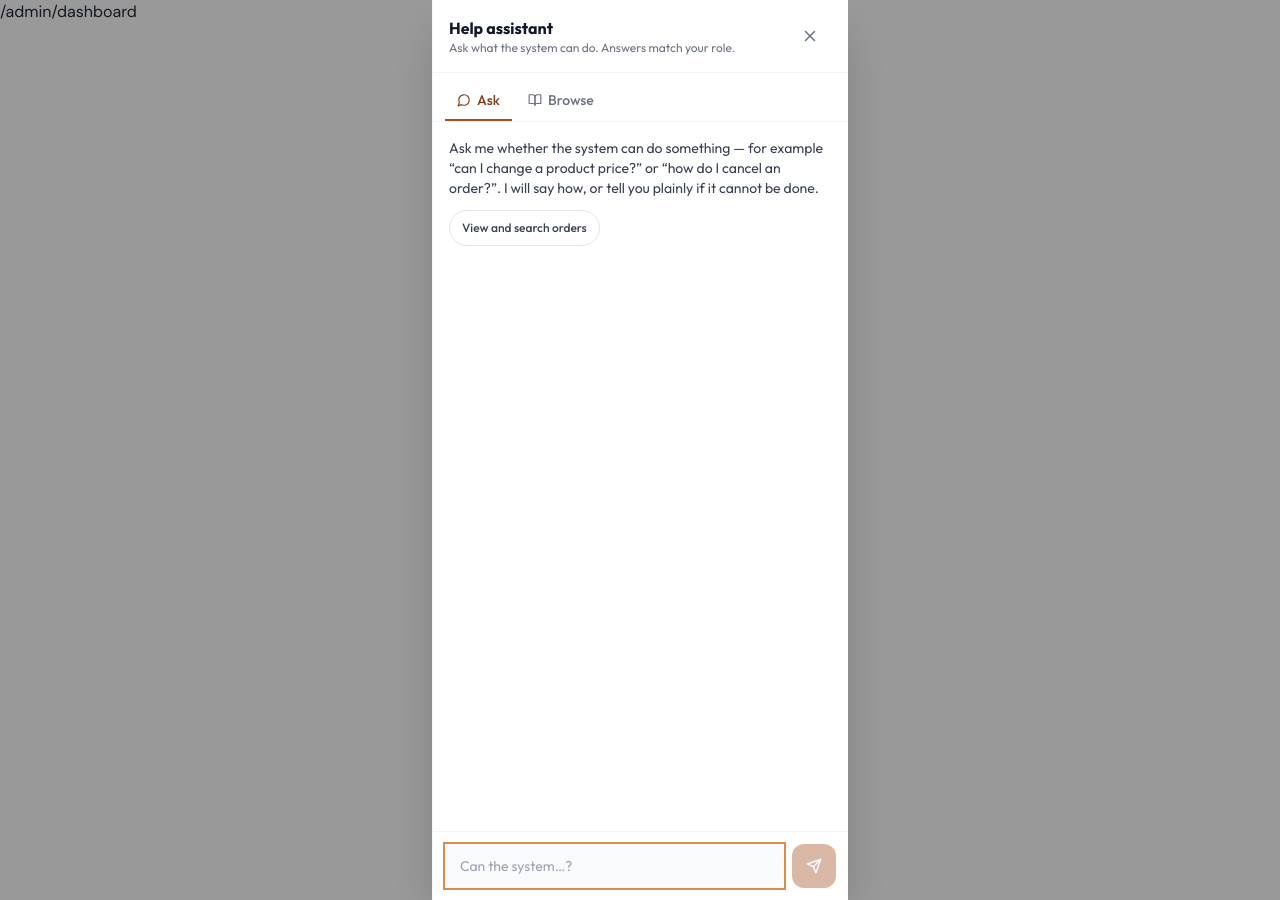
Test case: AssistantPanel › shows why a role cannot do something, without steps or a link
Type "approve an order" into the field named "Your question". click: [614, 866]
box: [445,844,784,888]
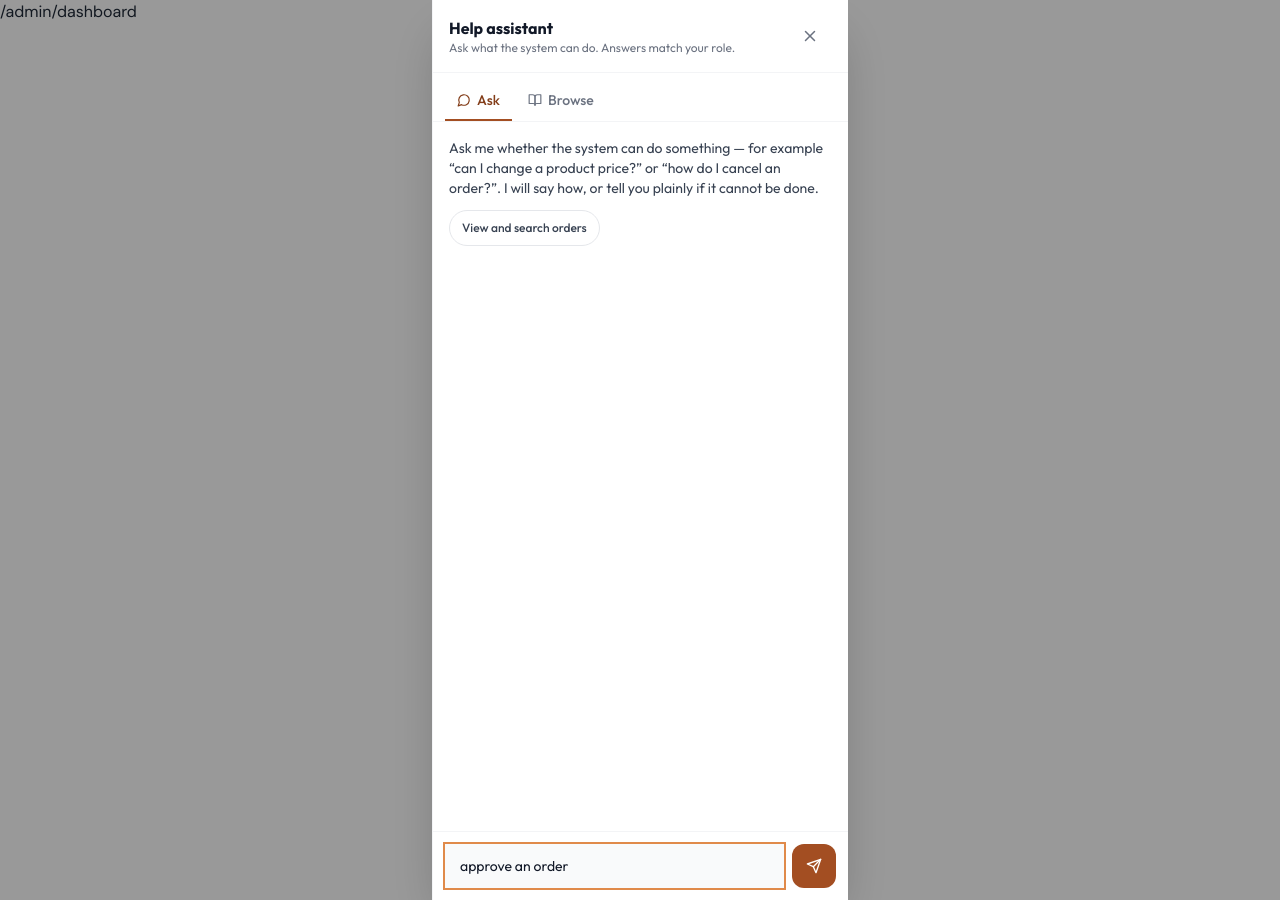
Click the button named "Send question". click: [814, 866]
box: [792,844,836,888]
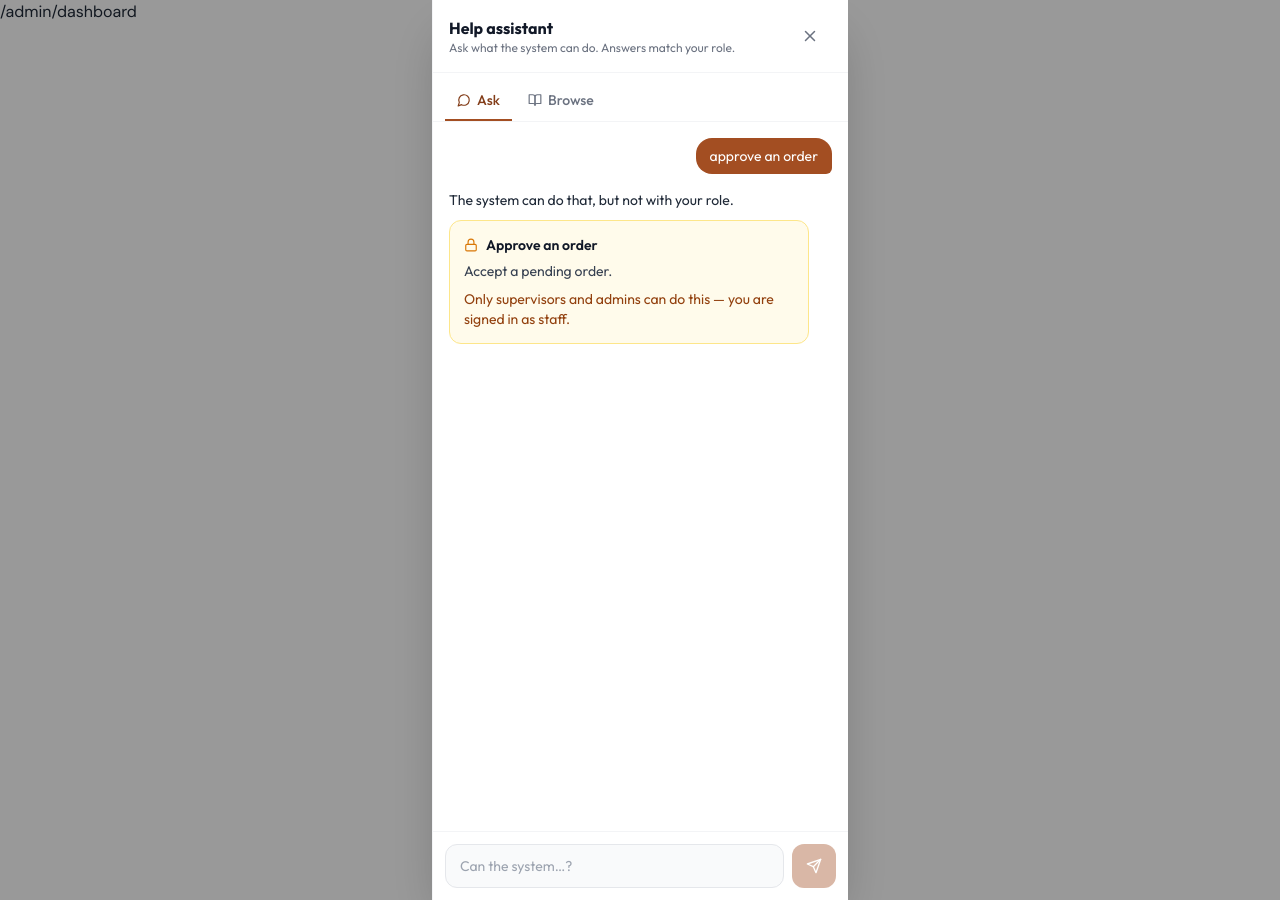
Expected: the text "signed in as staff" is shown, [464,290,774,328]
